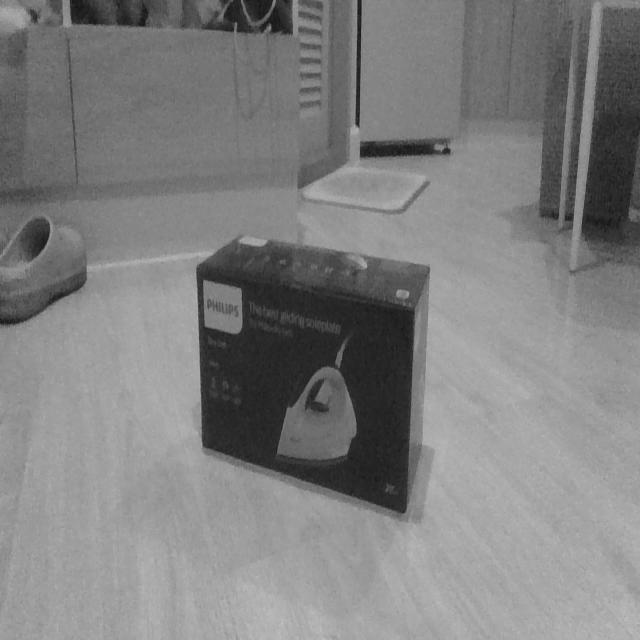IRON: (194, 229, 432, 519)
